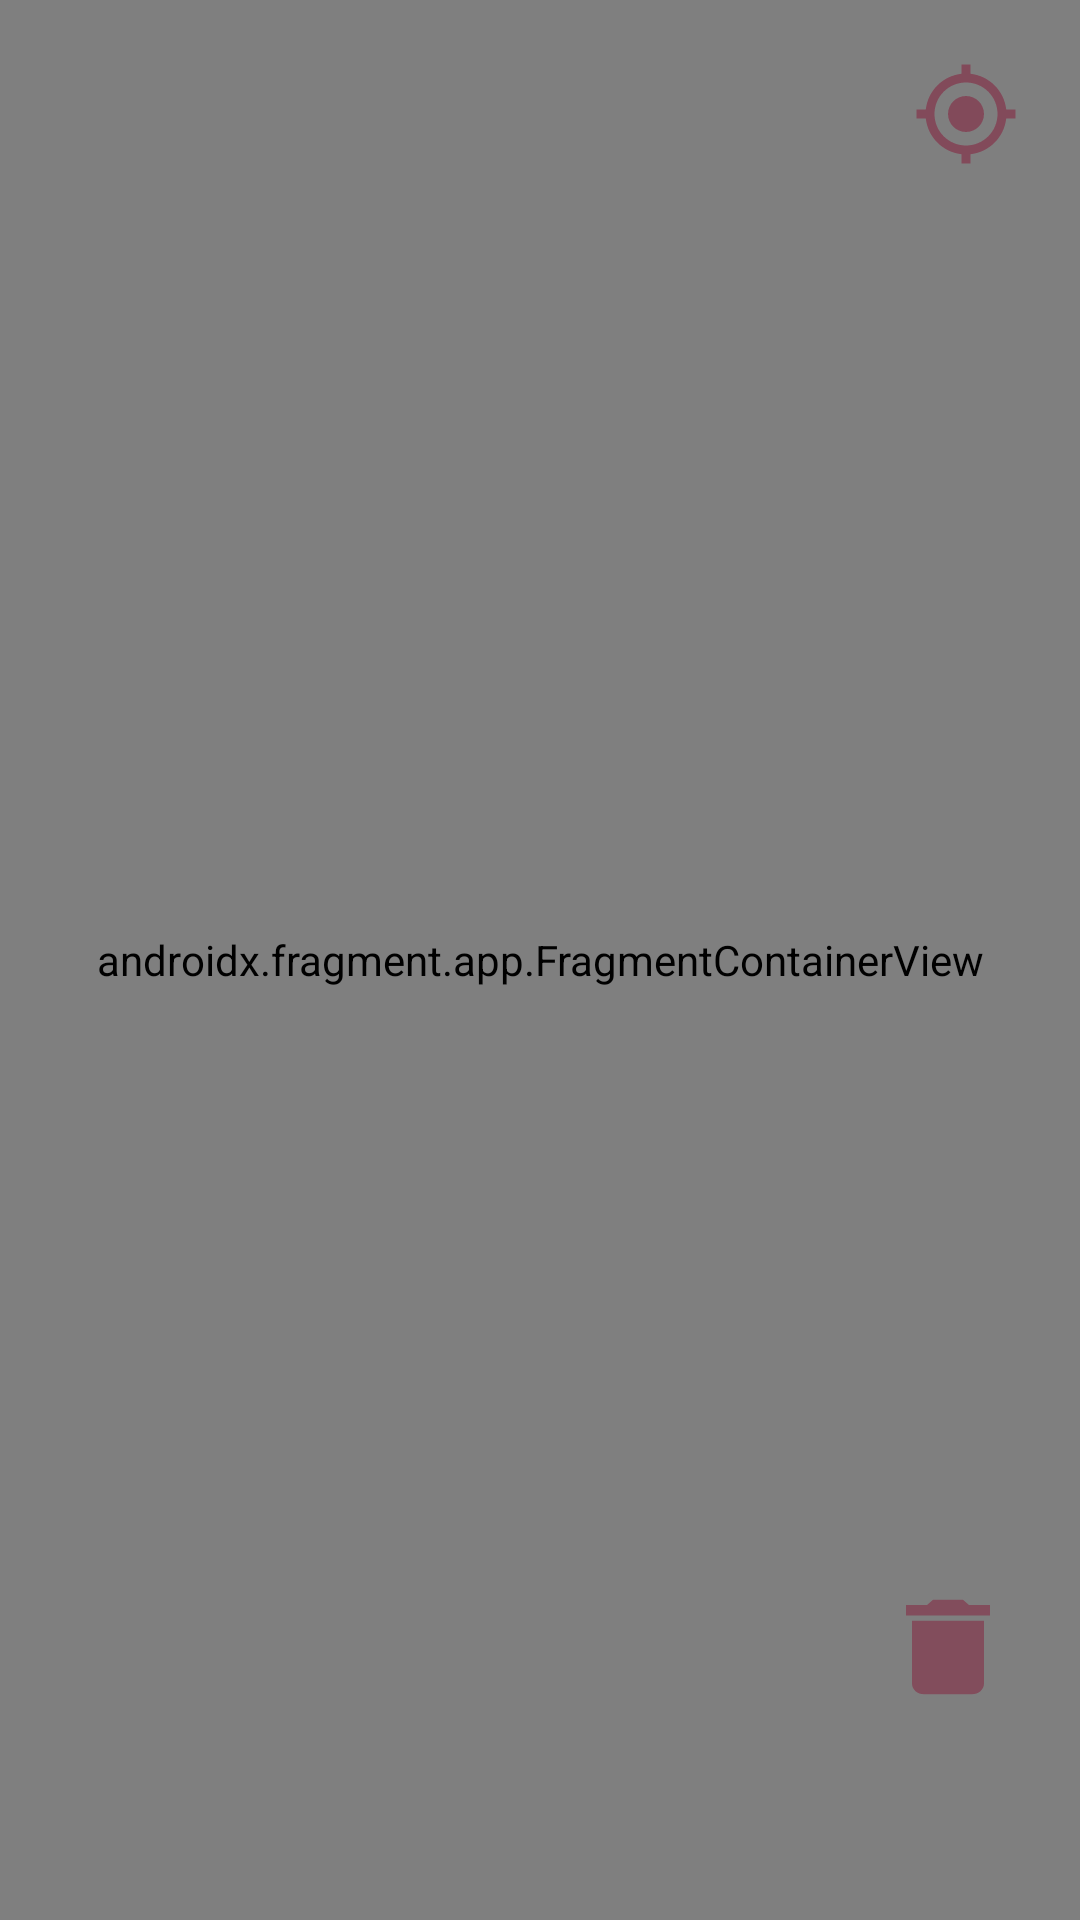

Icons on this 1080px×1920px Android screen, each with the point to tap as (x,y):
delete: (948,1647)
locator: (966,114)
